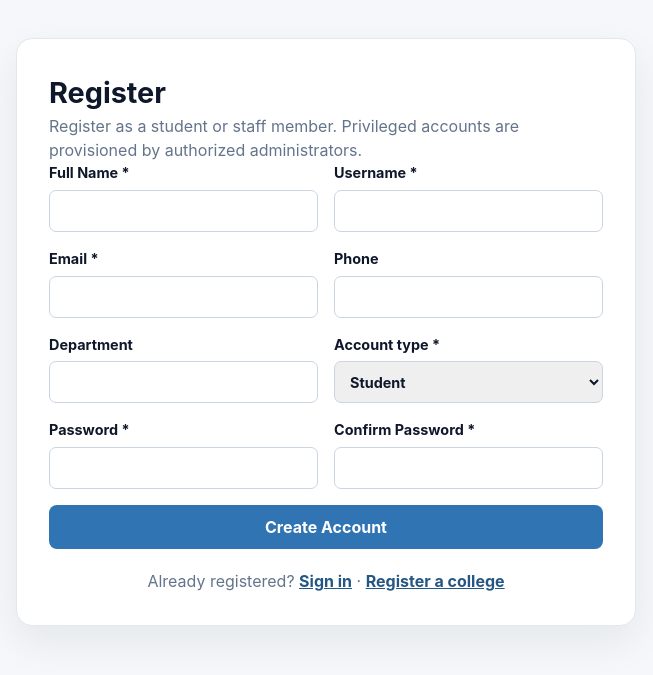
Scenario: Register page translations › creates public staff accounts through the restricted public registration API
In the field labelled "Full Name *": (184,211) [49,190,318,232], type "Example Staff"
In the field labelled "Username *": (468,211) [334,190,603,232], type "example.staff"
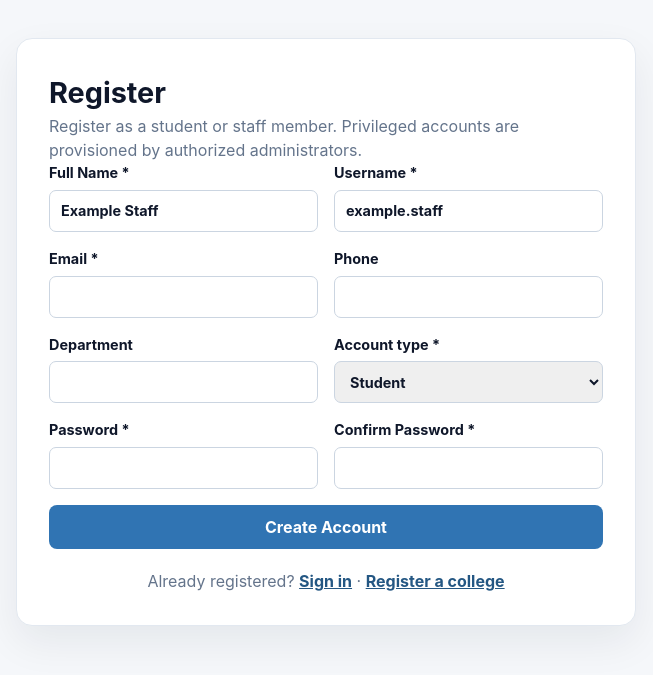
In the field labelled "Email *": (184,297) [49,276,318,318], type "example@example.edu"
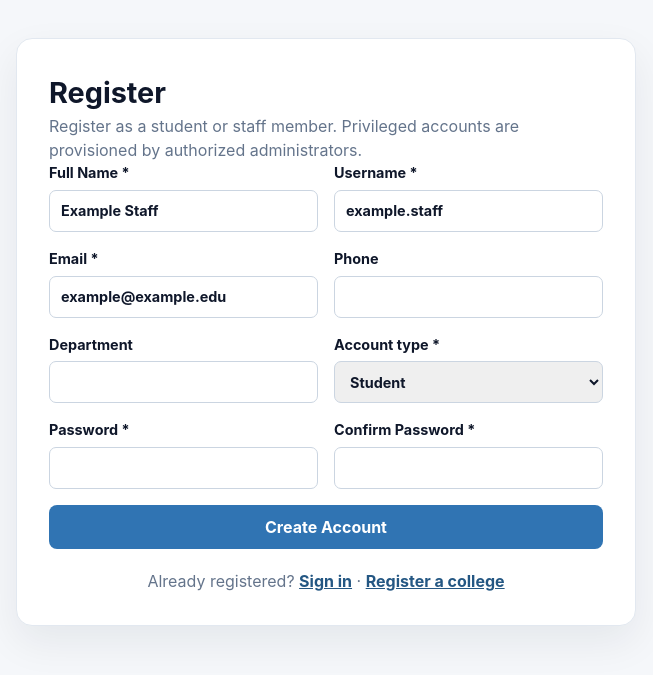
Select "Staff" in the dropdown labelled "Account type *": (468,382) [334,361,603,403]
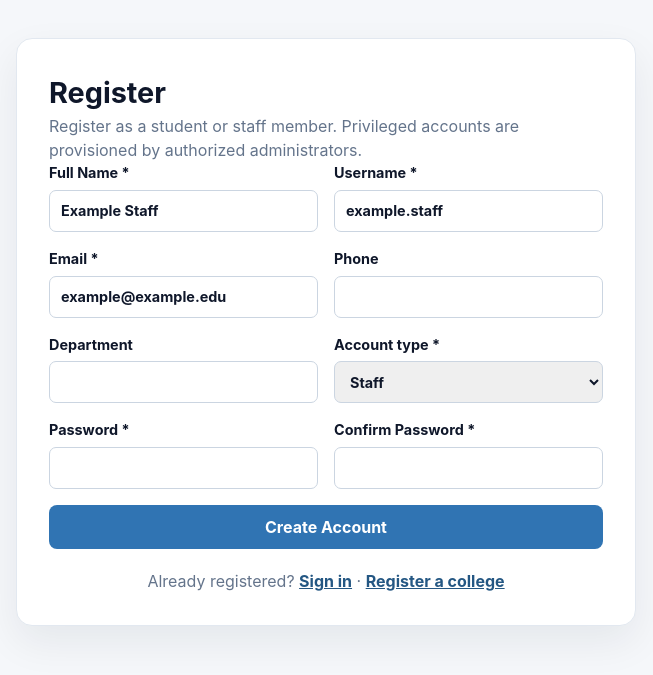
In the password field labelled "Password *": (184,468) [49,447,318,489], type "ValidPass123"
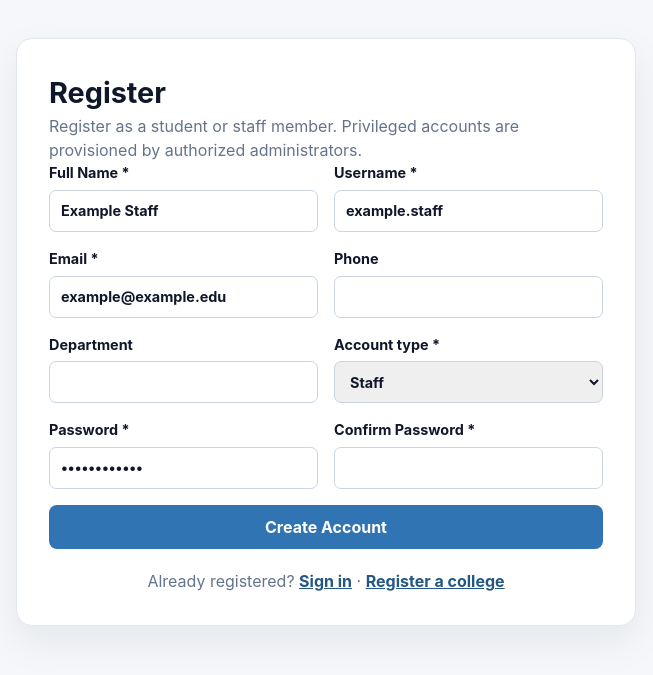
In the password field labelled "Confirm Password *": (468,468) [334,447,603,489], type "ValidPass123"
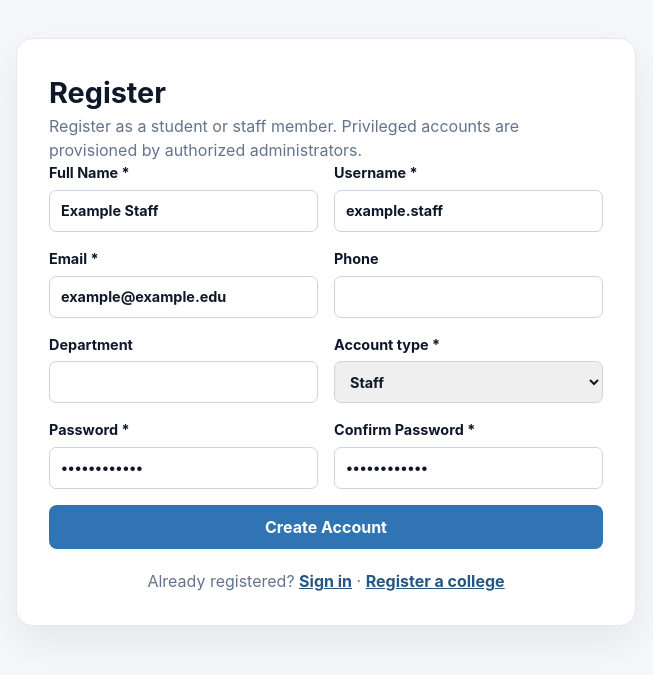
Click the button "Create Account": (326,527) [49,505,603,549]
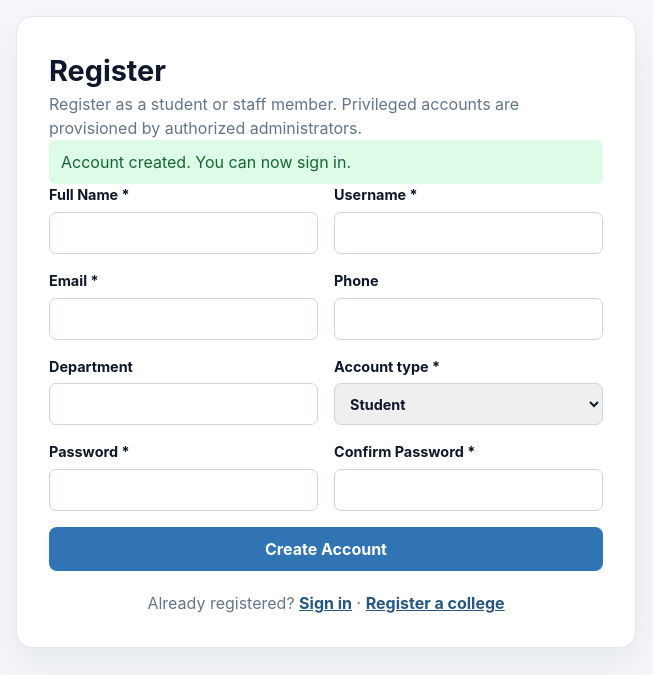
expect the message reads "Account created. You can now sign in.": met, box [61,152,351,172]
